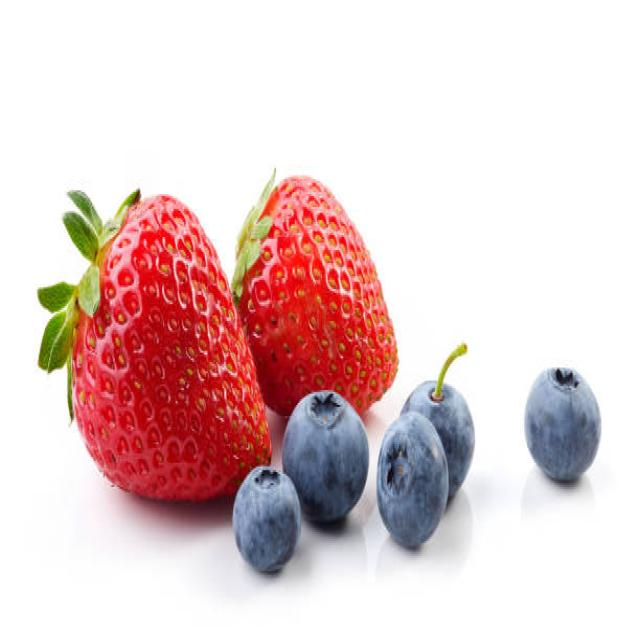Healthy Fruit: (75, 197, 271, 498), (241, 175, 400, 421)
